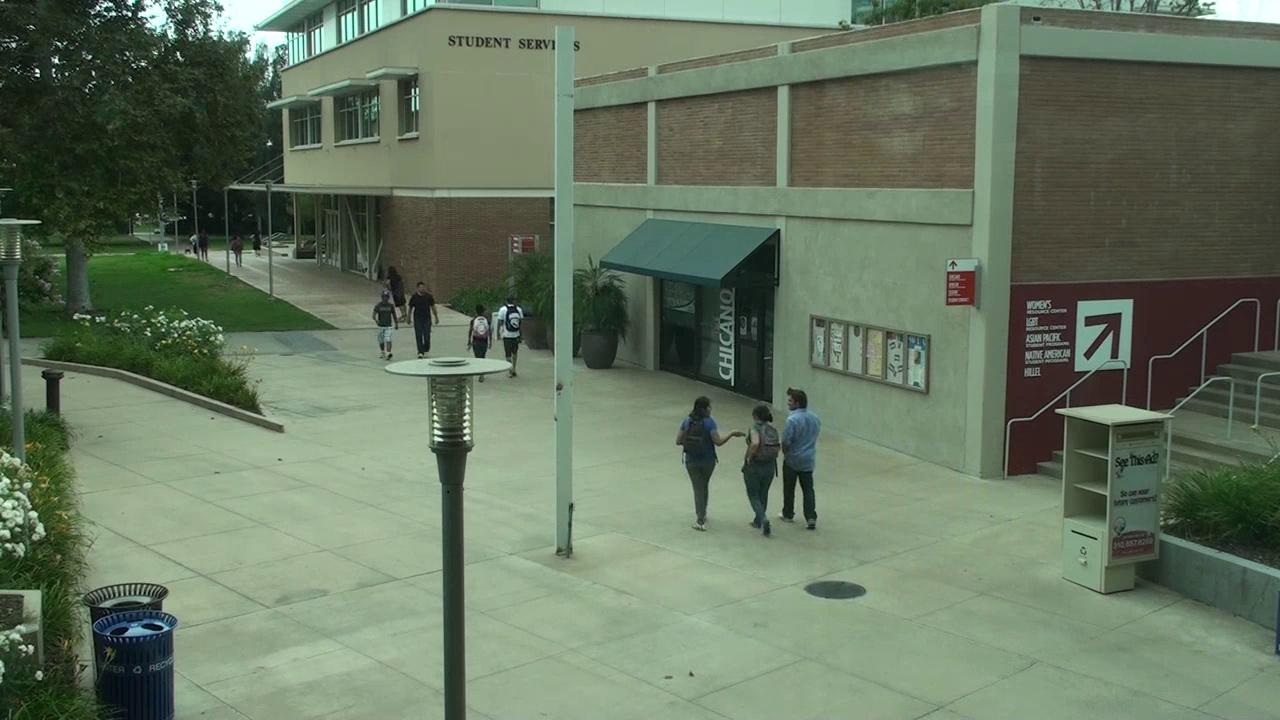person: (675, 396, 742, 530), (781, 388, 820, 523), (742, 404, 780, 535), (408, 282, 438, 357), (497, 295, 523, 377), (372, 290, 397, 359), (467, 305, 490, 358), (387, 266, 406, 318), (783, 478, 795, 516), (230, 235, 243, 266)
